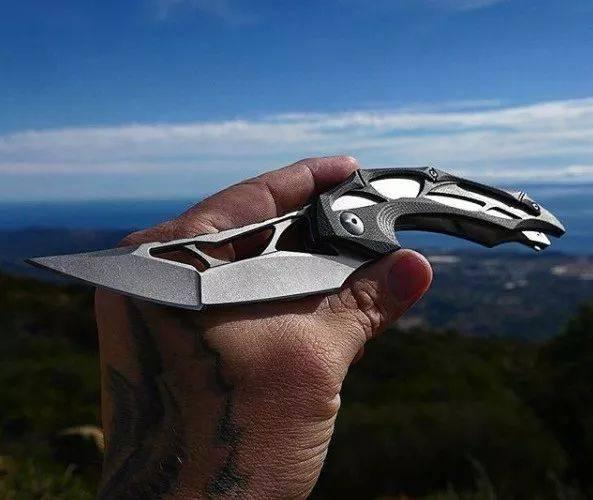knife: (14, 127, 572, 401)
